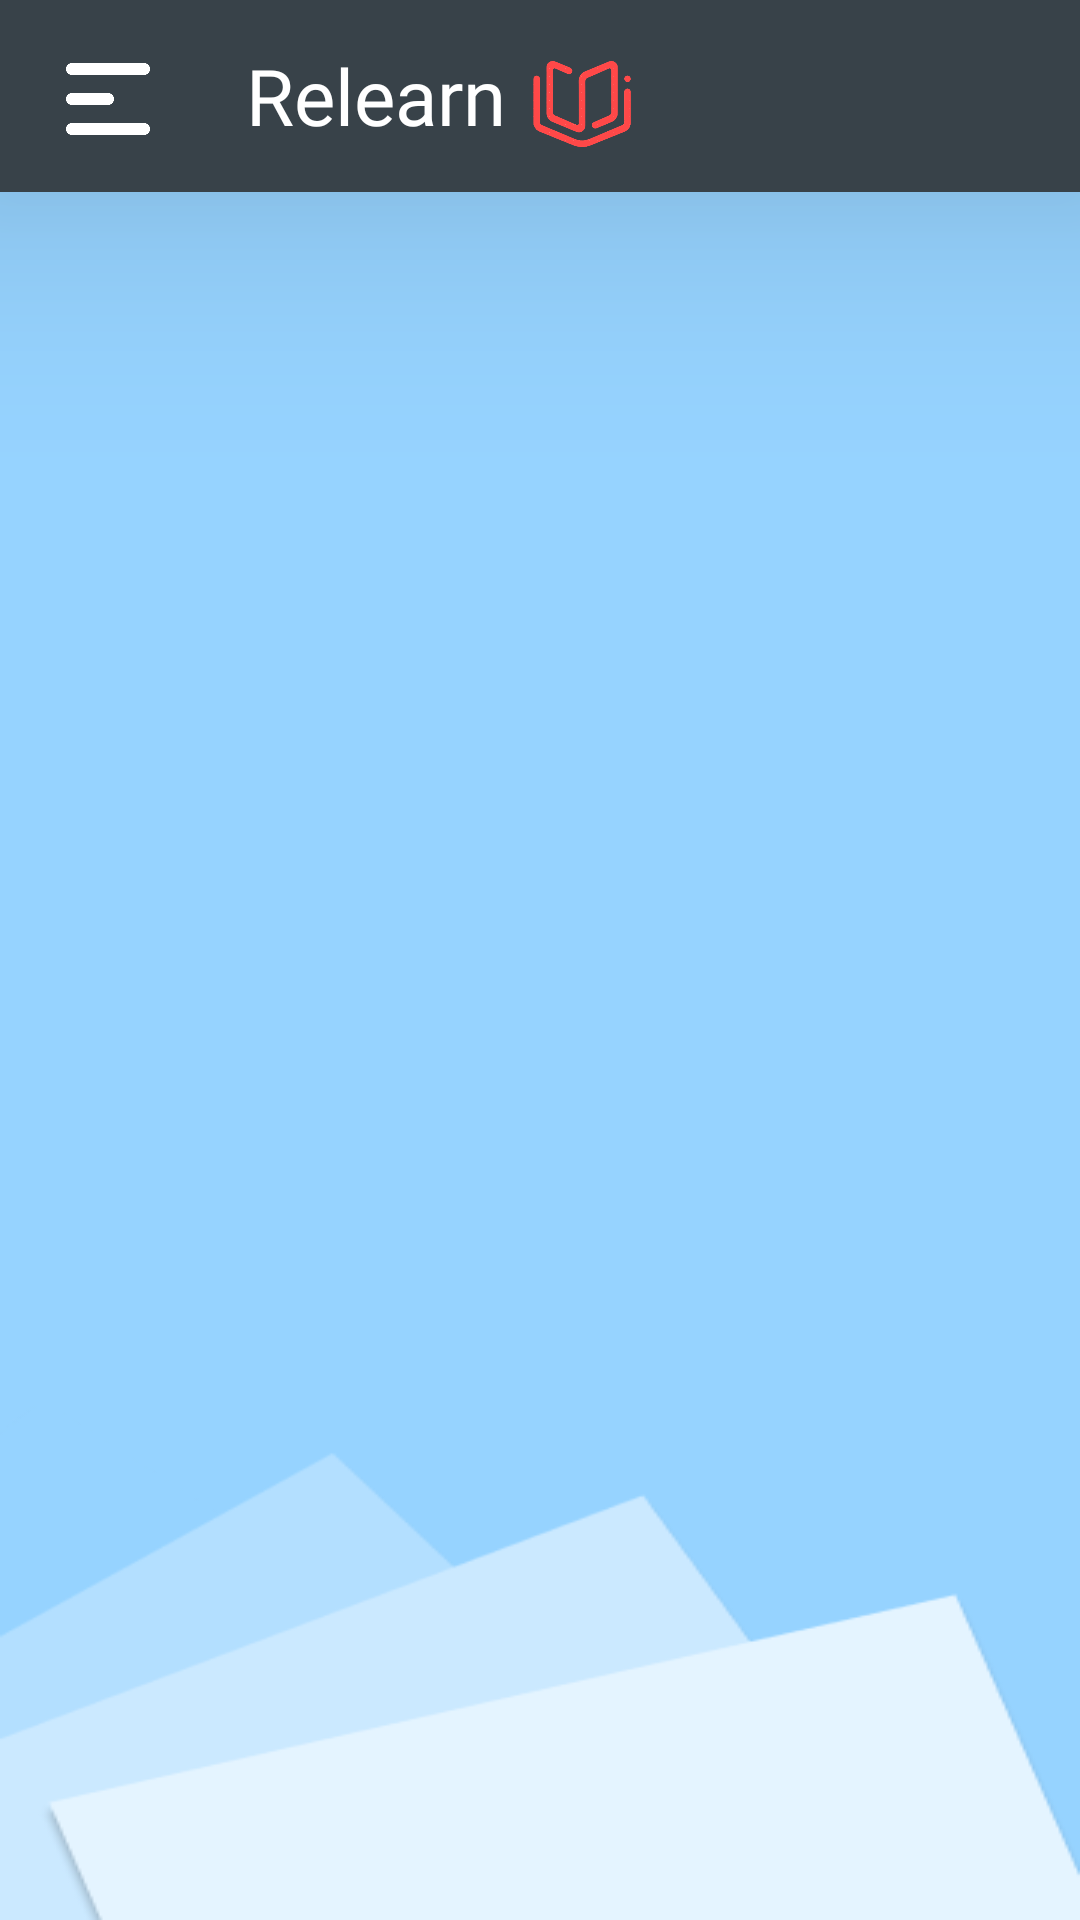

Screen size 1080w x 1920h. Icon name, then its center in pixels as (x,y):
hmenus: (108,99)
